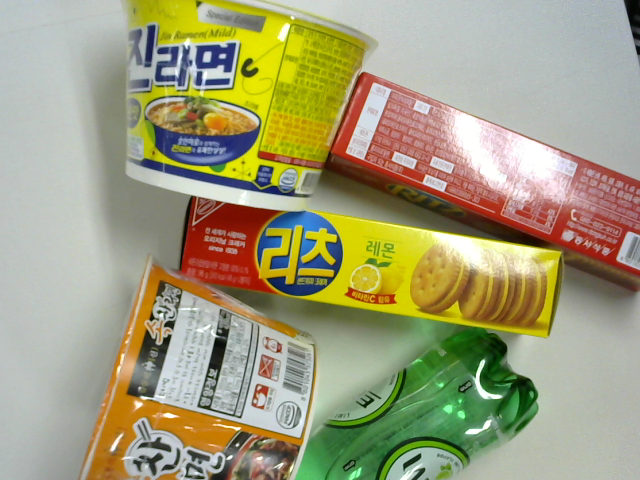Hejangchan: (70, 262, 320, 480)
Jinlamyeon_Mild_Taste_Large_Cup: (109, 1, 350, 210)
Ritz_Cracker: (335, 83, 640, 286)
Ritz_Remon_96g: (159, 181, 573, 344)
Treviraim_500ml: (291, 328, 553, 480)
